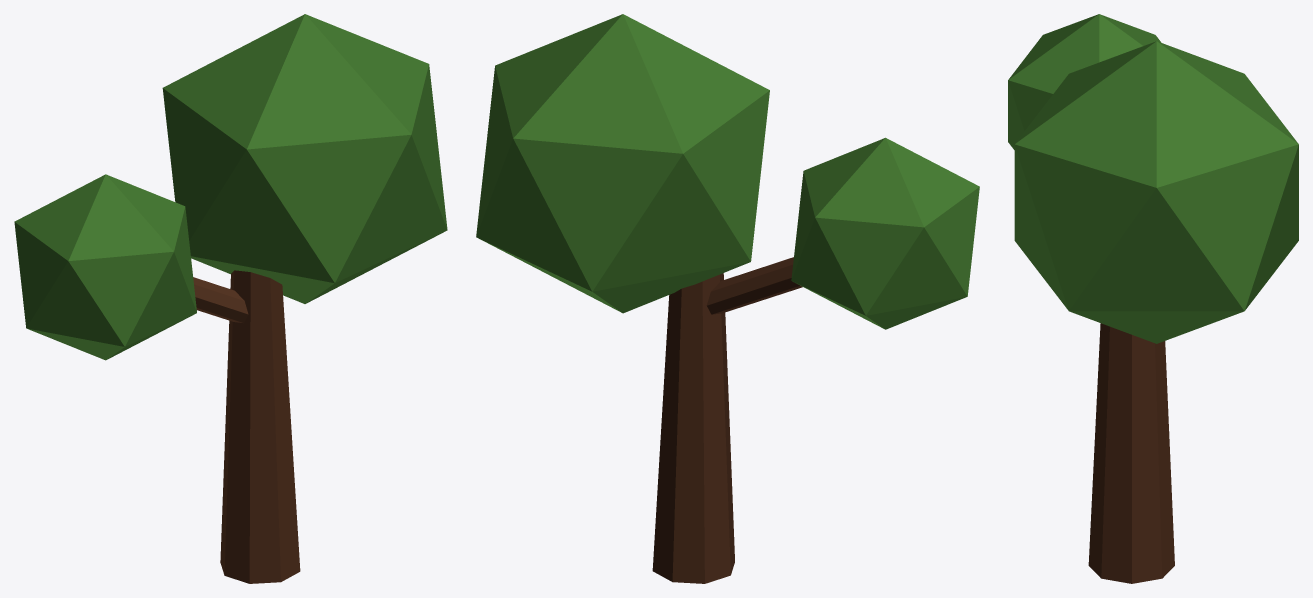
Rendered from Tree2.fbx.
3 views of the same model, side by side, from view 1: azimuth 30°, elevation 25°; view 2: azimuth 150°, elevation 25°; view 3: azimuth 270°, elevation 25° (orthographic). The views are drawn at different scales.
Parts seen in each view (by area): view 1: Tree2; view 2: Tree2; view 3: Tree2.
Part boxes in pixels (x1,y1,x2,y2): Tree2: (14,14,447,583); Tree2: (476,14,979,583); Tree2: (1008,14,1298,583).
Bounding box in the file's own units: 937 × 1103 × 525.
